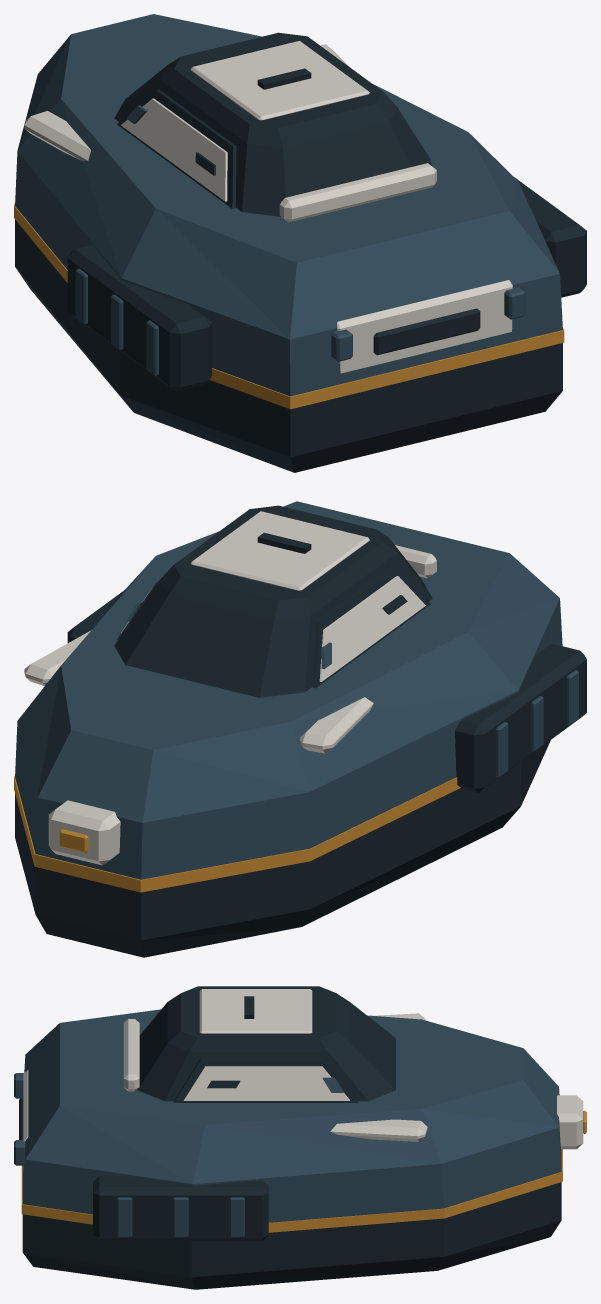
File: cv-scout-hover-runner.glb
3 renders of one model, top to bottom at view 1: azimuth 30°, elevation 25°; view 2: azimuth 150°, elevation 25°; view 3: azimuth 270°, elevation 25°, orthographic. The views are drawn at different scales.
Parts seen in each view (by area): view 1: cv-scout-hover-runner; view 2: cv-scout-hover-runner; view 3: cv-scout-hover-runner.
Boxes of the visible parts, bbox=[...] form: cv-scout-hover-runner: bbox=[14, 14, 586, 472]; cv-scout-hover-runner: bbox=[14, 501, 586, 957]; cv-scout-hover-runner: bbox=[14, 986, 586, 1289].
Size of the model in its own units: 1.5 by 0.9 by 2.2.
